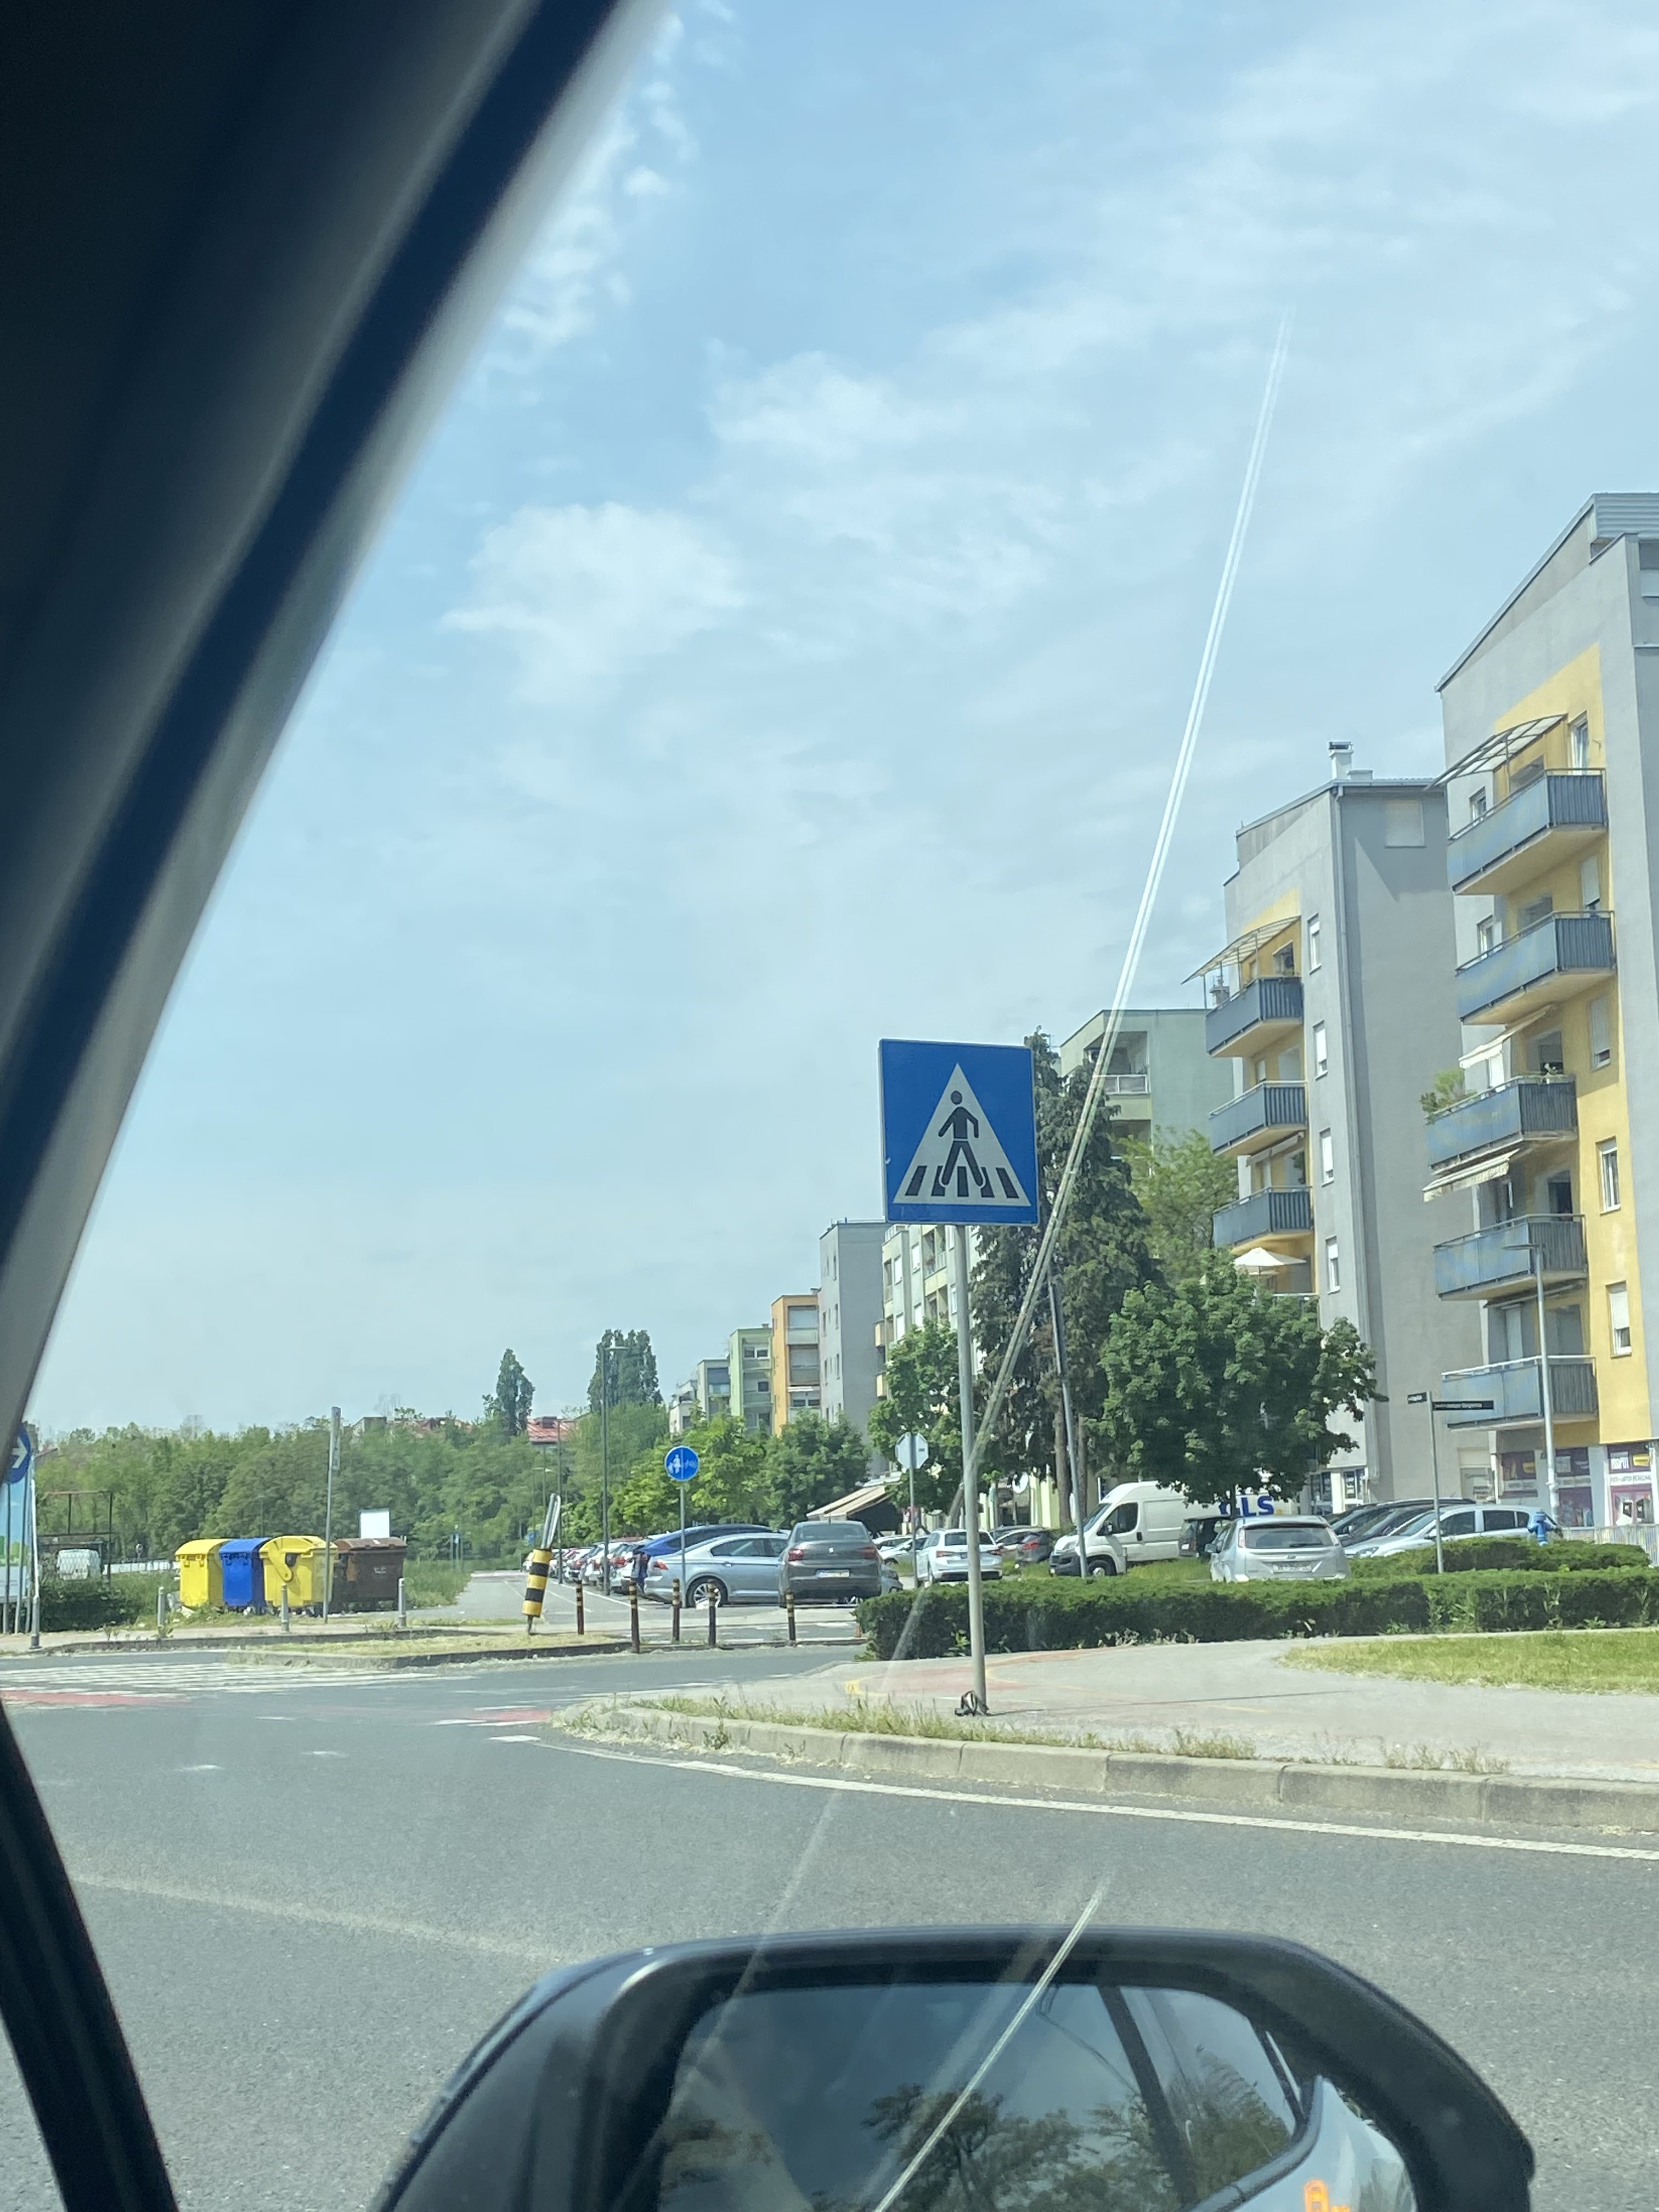Pješački prijelaz: (878, 1038, 1039, 1226)
